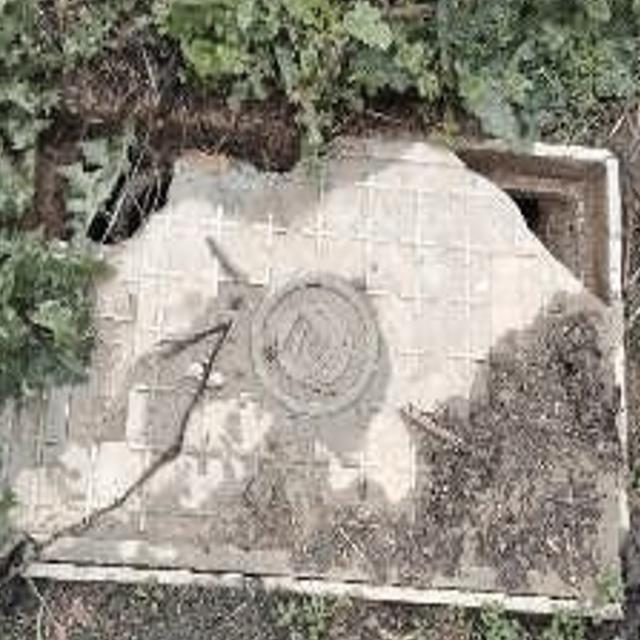broke: (0, 112, 630, 622)
